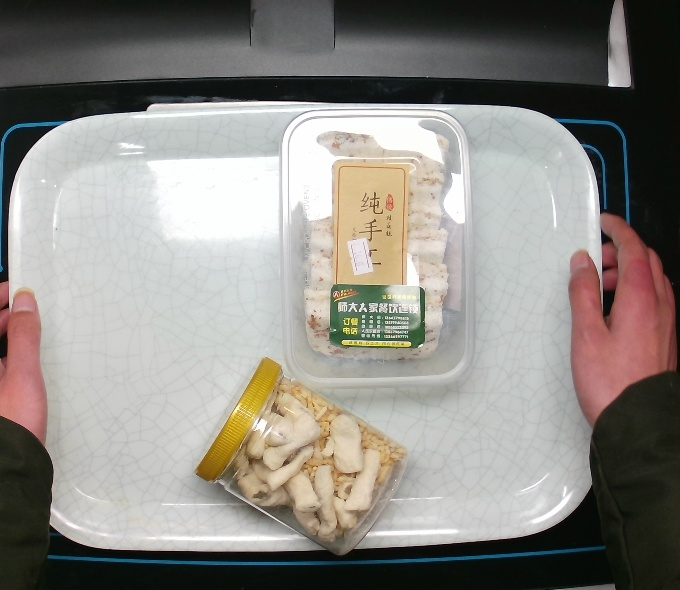wcq-GuiHuaGao: (275, 102, 479, 394)
wcq-MaiYaTang: (186, 351, 416, 561)
